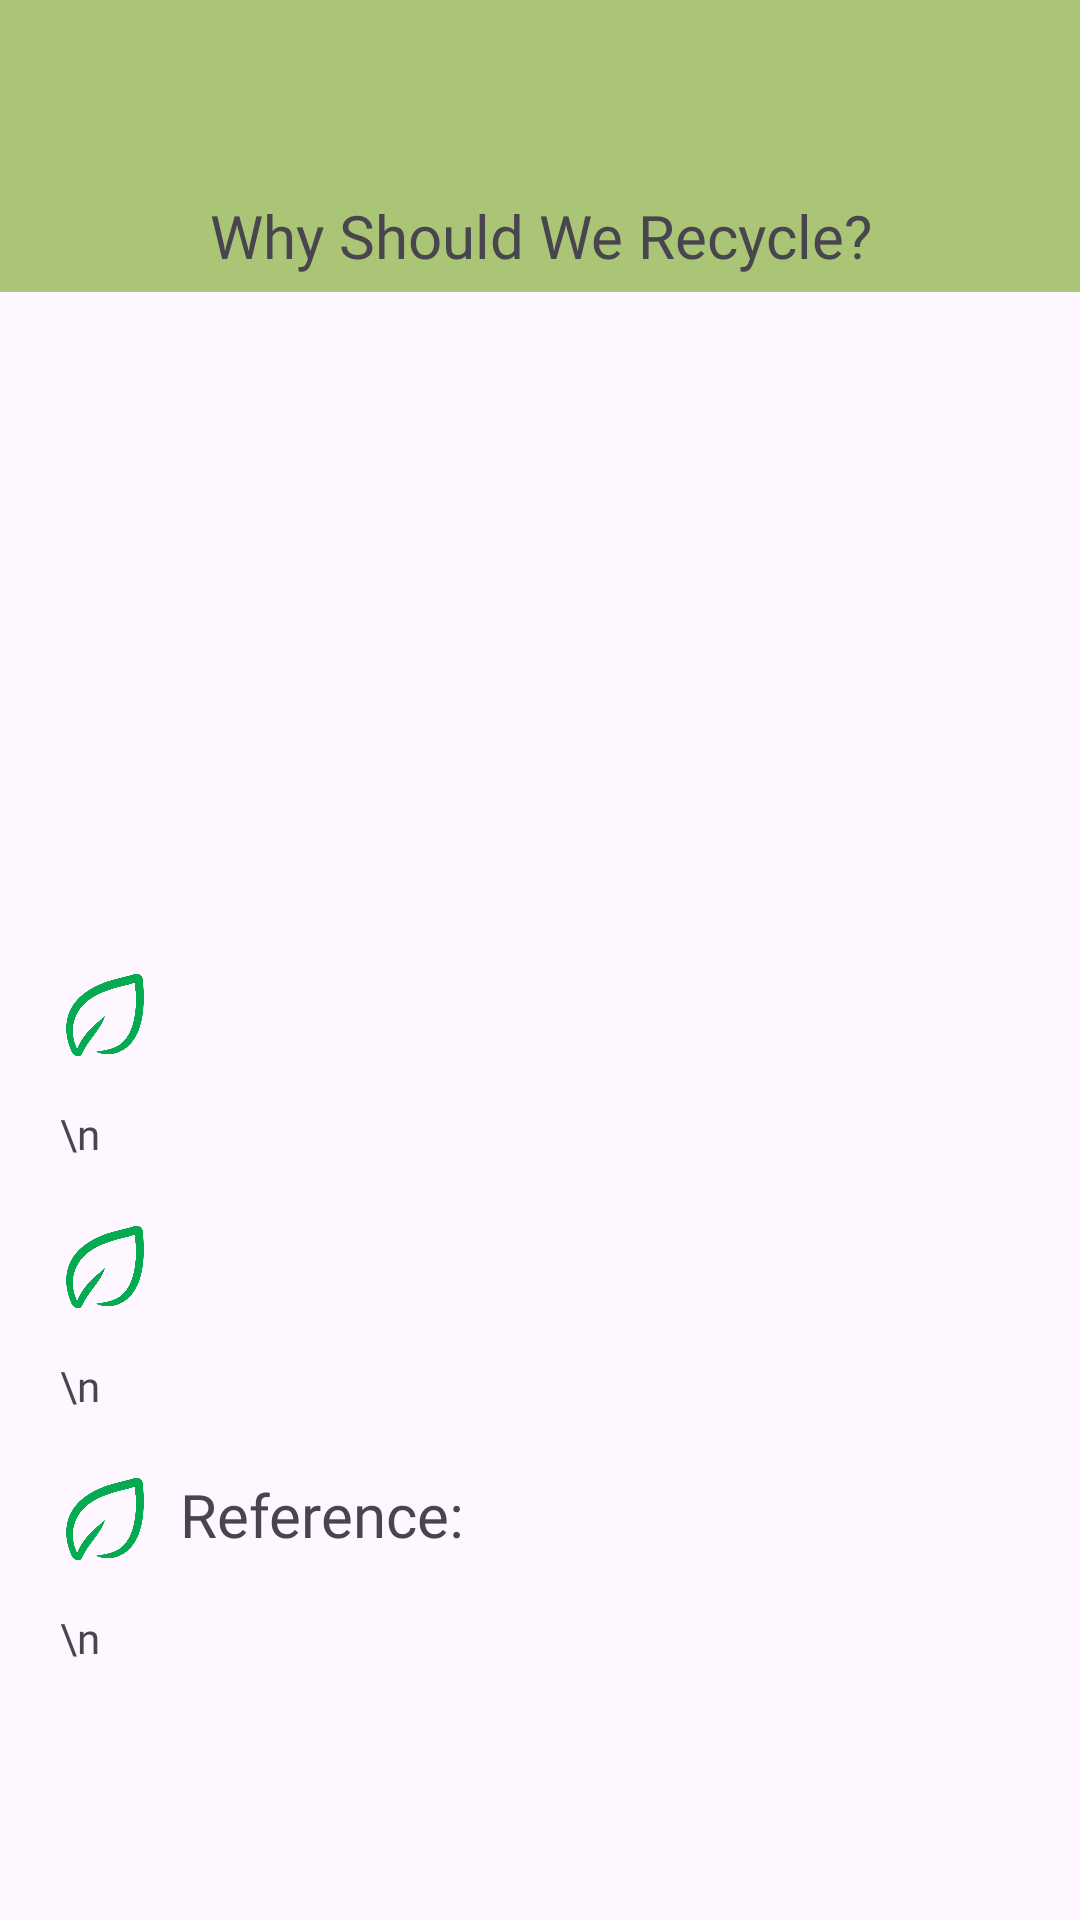

Icon click points for this 1080 × 1920 phone screenshot, format point (x, y):
leaf: point (105, 1015), point (105, 1267), point (105, 1519)
